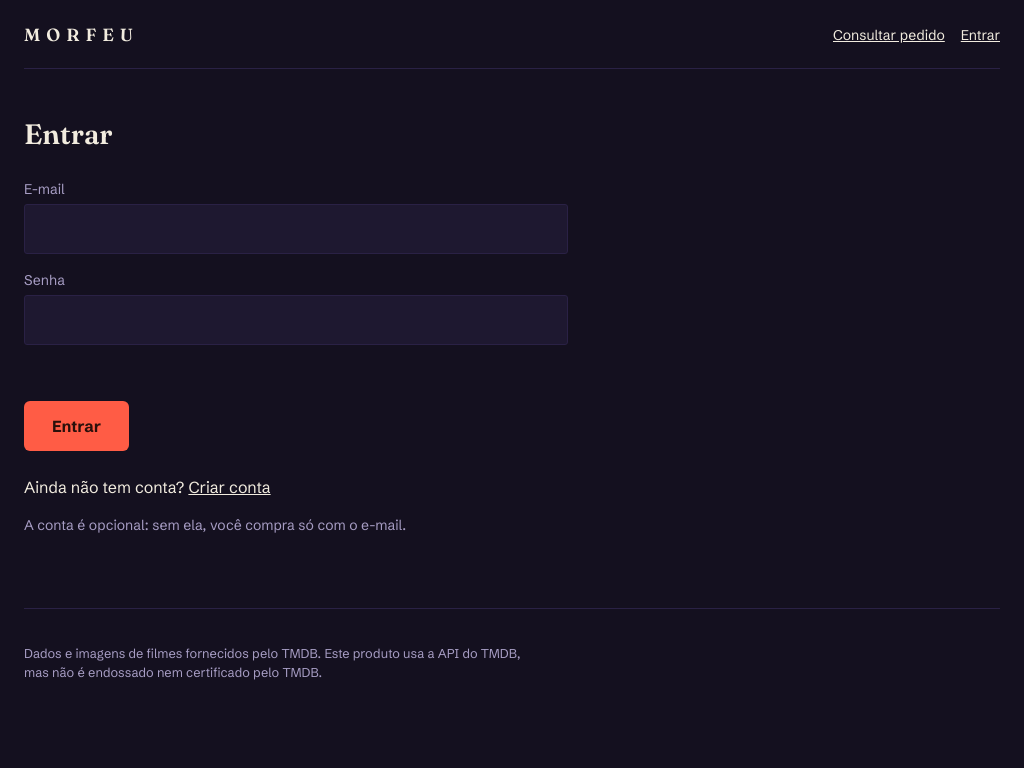
Test: login e cadastro › entra e volta para onde estava; o menu mostra a conta
Step 1. Type "ana@exemplo.com" into the field labelled "E-mail" → {"x": 296, "y": 229}, box [24, 204, 568, 254]
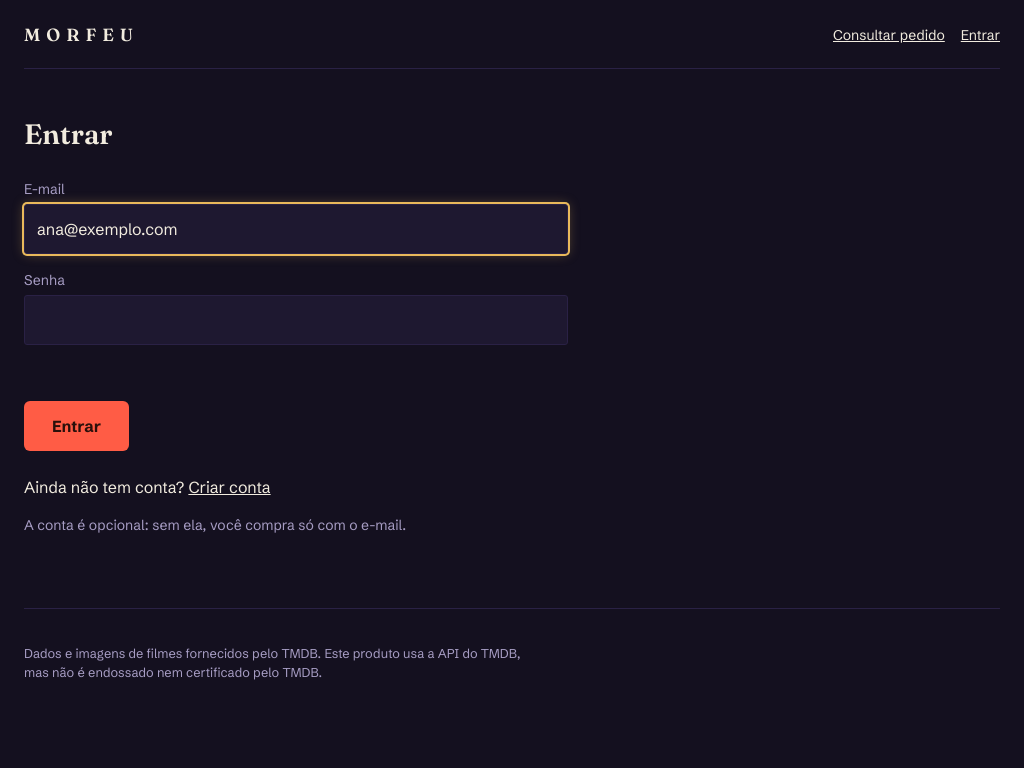
Step 2. Type "segredo123" into the password field labelled "Senha" → {"x": 296, "y": 320}, box [24, 295, 568, 345]
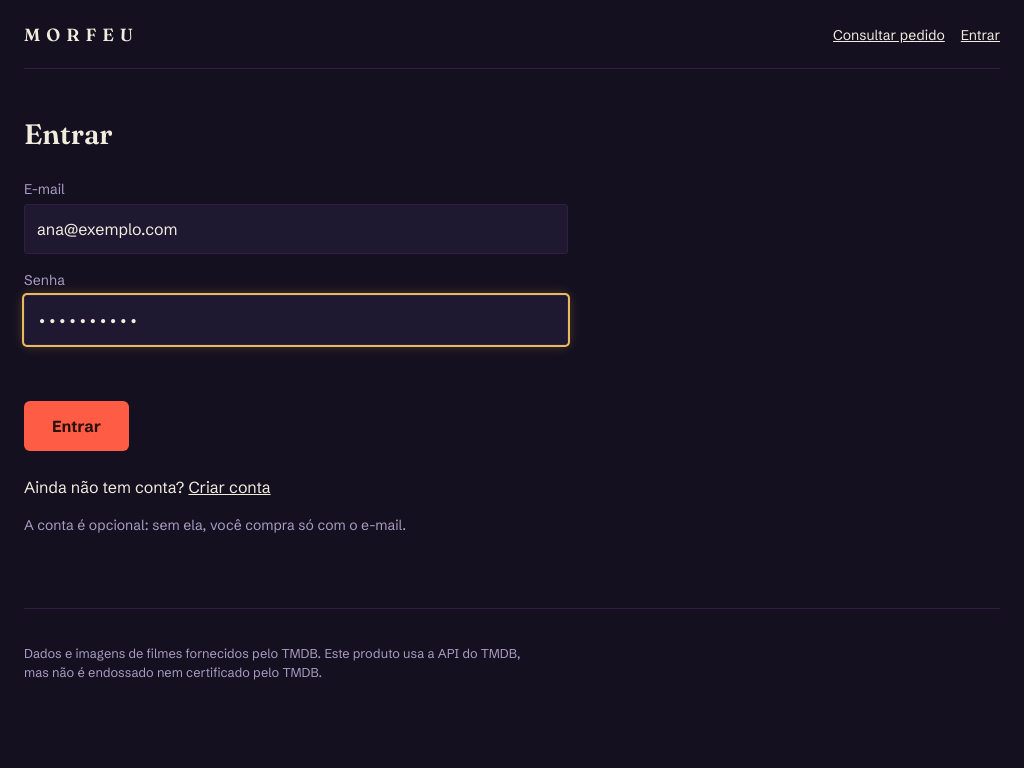
Step 3. Click the button "Entrar" → {"x": 77, "y": 426}, box [24, 401, 129, 451]
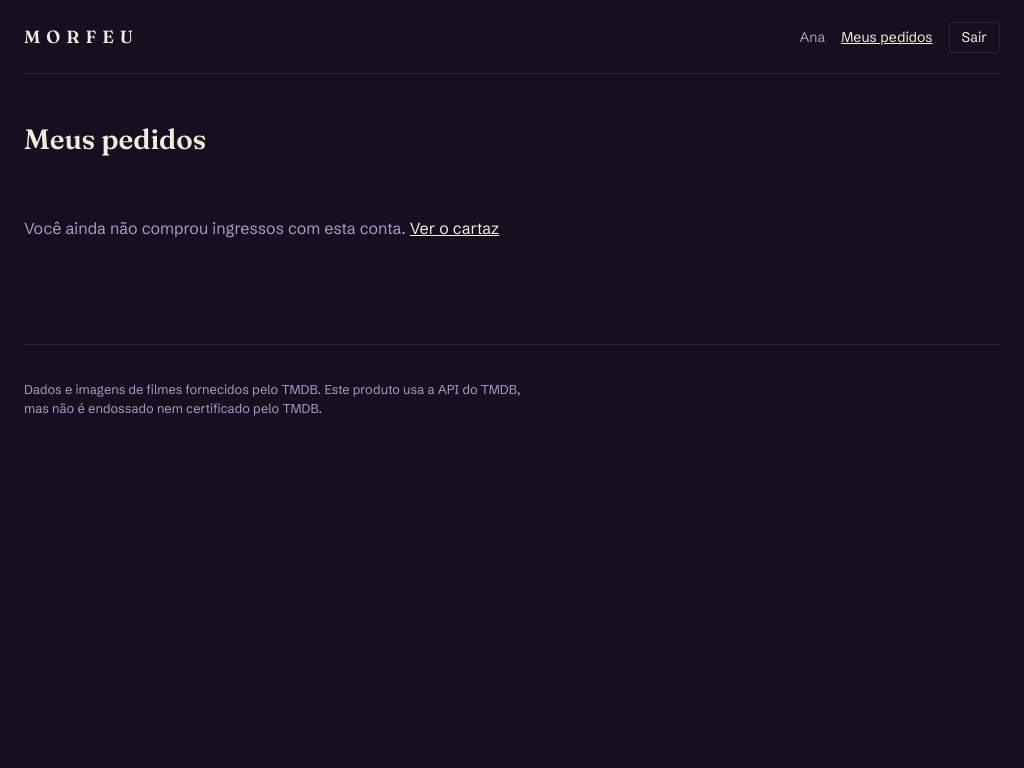
Now the heading "Meus pedidos" is shown, box [24, 122, 206, 156]
Now the text "Você ainda não comprou ingressos" is shown, box [24, 218, 410, 238]
Now the navigation bar named "Conta" shows "Ana", box [800, 28, 825, 46]
